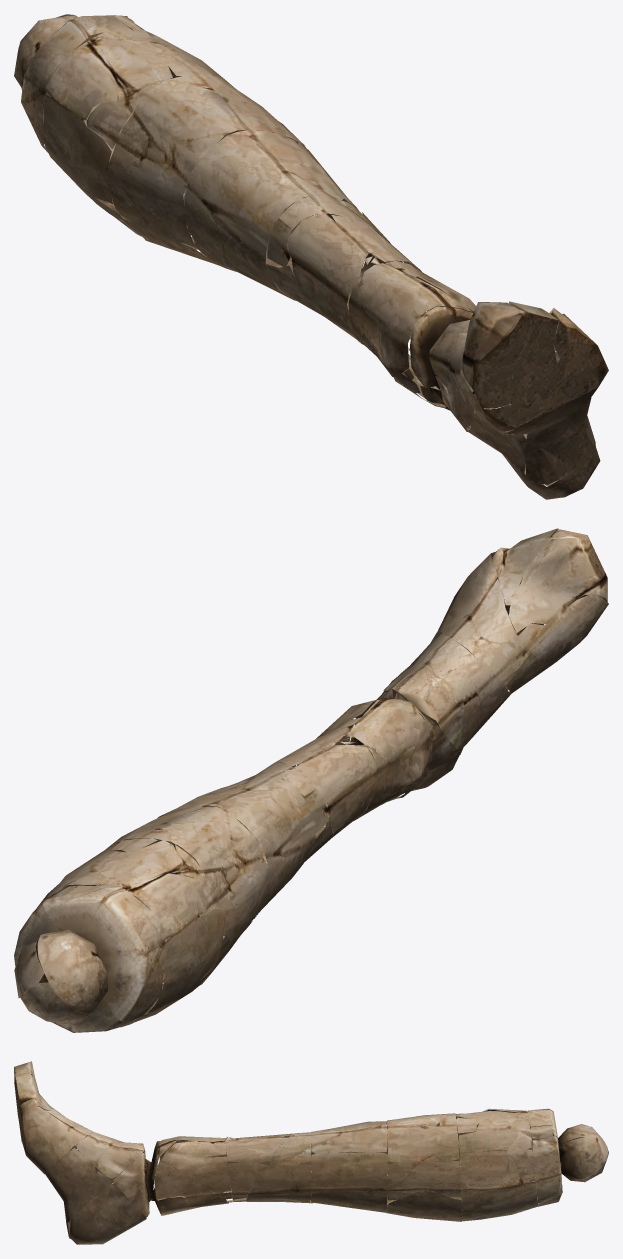
Rendered from shin.fbx.
3 renders of one model, top to bottom at view 1: azimuth 30°, elevation 25°; view 2: azimuth 150°, elevation 25°; view 3: azimuth 270°, elevation 25°, orthographic. The views are drawn at different scales.
Visible parts, largest first — view 1: Part; view 2: Part; view 3: Part.
Part boxes in pixels (left/top/right/bottom): Part: left=14, top=14, right=608, bottom=499; Part: left=14, top=528, right=608, bottom=1032; Part: left=14, top=1061, right=608, bottom=1244.
Bounding box in the file's own units: 0.0902 × 0.1206 × 0.44.
